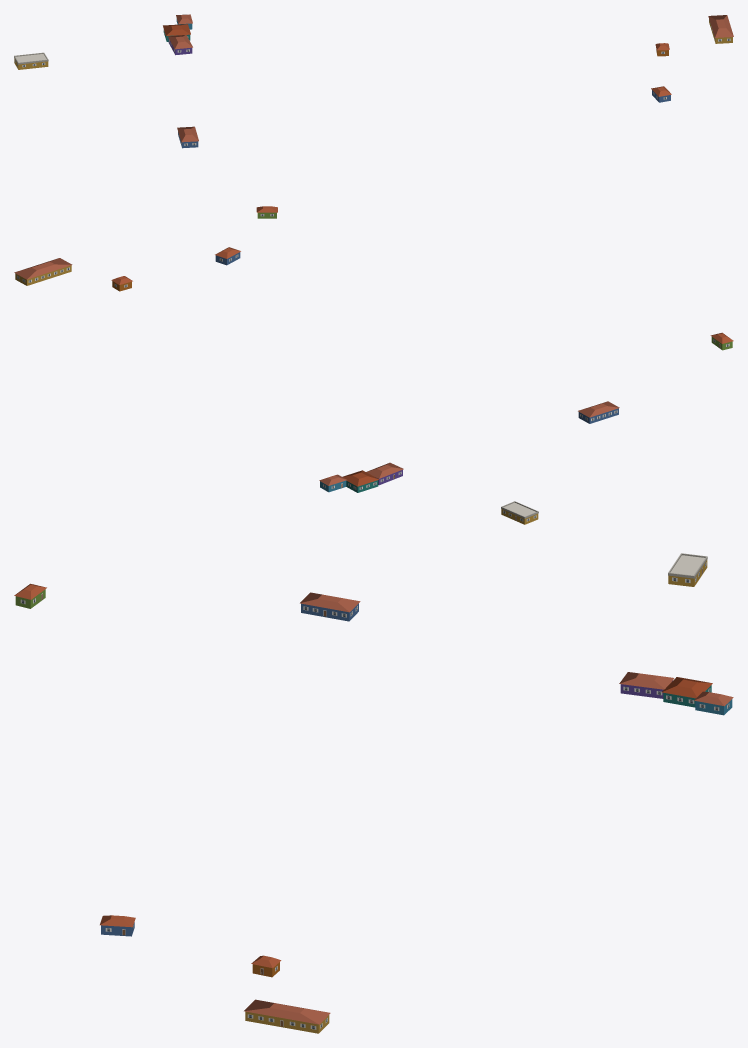
The model's file is msb_sannicolas_19_25.glb.
3 views of the same model, one above another, from view 1: azimuth 30°, elevation 25°; view 2: azimuth 150°, elevation 25°; view 3: azimuth 270°, elevation 25° (orthographic). The views are drawn at different scales.
Visible parts, largest first — view 1: msb_sannicolas_19_25_lod0; view 2: msb_sannicolas_19_25_lod0; view 3: msb_sannicolas_19_25_lod0.
Boxes of the visible parts, x1,y1,x2,y2 form: msb_sannicolas_19_25_lod0: (14,14,733,218); msb_sannicolas_19_25_lod0: (14,247,733,524); msb_sannicolas_19_25_lod0: (14,553,733,1033).
Size of what is drawn, in the model's own units: 345 by 10.16 by 232.
Materials: 3 (1 with a texture image).
